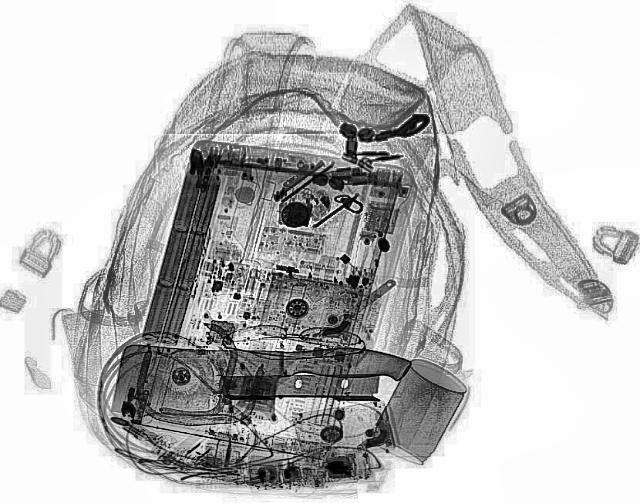Knife: (107, 329, 413, 441)
